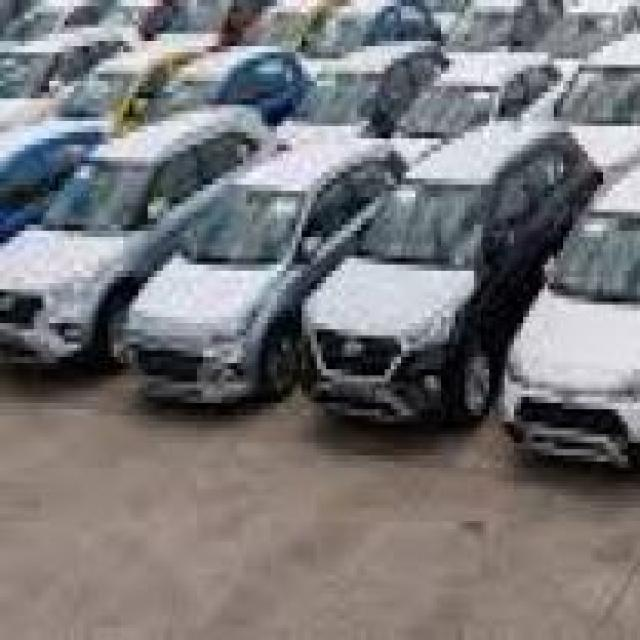car: (304, 121, 502, 478), (123, 132, 292, 474), (563, 132, 640, 502)
